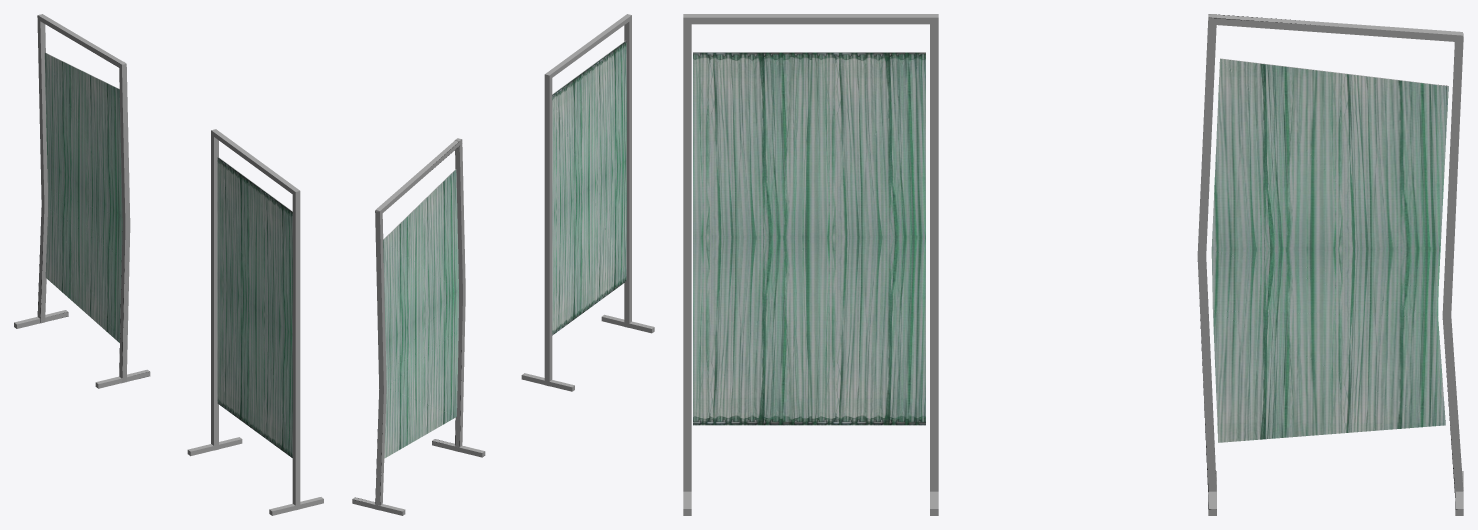
File: separadores.FBX
3 views of the same model, side by side, from view 1: azimuth 30°, elevation 25°; view 2: azimuth 150°, elevation 25°; view 3: azimuth 270°, elevation 25° (orthographic). The views are drawn at different scales.
Visible parts, largest first — view 1: Box012, Box013, Box001, Box010, Box002, Box009, Box003, Box008, Box004, Box006, Box005, Box007; view 2: Box012, Box013, Box002, Box009, Box010, Box001, Box008, Box003, Box007, Box006, Box004, Box005; view 3: Box012, Box013, Box010, Box002, Box001, Box009, Box008, Box003.
Boxes of the visible parts, x1,y1,x2,y2 form: Box012: (217, 157, 292, 457); Box013: (44, 52, 122, 342); Box001: (292, 189, 300, 510); Box010: (119, 61, 130, 382); Box002: (211, 129, 218, 450); Box009: (37, 16, 47, 323); Box003: (212, 131, 299, 195); Box008: (37, 14, 122, 67); Box004: (269, 497, 323, 515); Box006: (95, 369, 150, 388); Box005: (187, 437, 242, 456); Box007: (14, 310, 68, 328); Box012: (552, 40, 626, 335); Box013: (383, 169, 458, 458); Box002: (544, 72, 552, 386); Box009: (375, 210, 386, 509); Box010: (454, 138, 465, 451); Box001: (624, 14, 631, 327); Box008: (375, 139, 462, 214); Box003: (544, 15, 631, 78); Box007: (352, 497, 405, 515); Box006: (432, 439, 485, 457); Box004: (601, 314, 654, 333); Box005: (521, 373, 574, 391); Box012: (693, 52, 925, 425); Box013: (1211, 58, 1448, 442); Box010: (1197, 14, 1216, 491); Box002: (930, 14, 938, 491); Box001: (683, 14, 691, 491); Box009: (1442, 33, 1463, 497); Box008: (1208, 14, 1462, 42); Box003: (683, 14, 938, 24).
Bounding box in the file's own units: 10.61 × 62.41 × 91.72.
